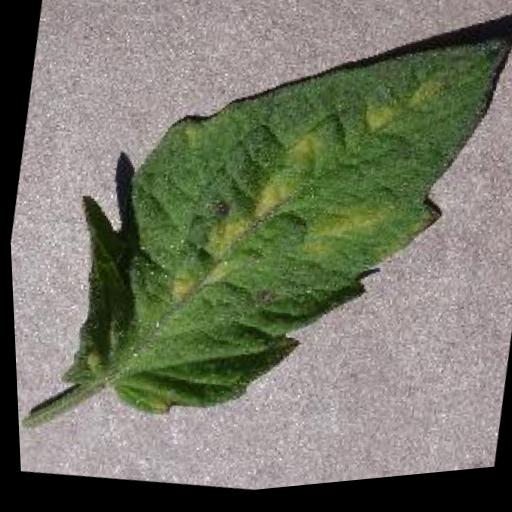Leaf Mold: (37, 0, 512, 476)
